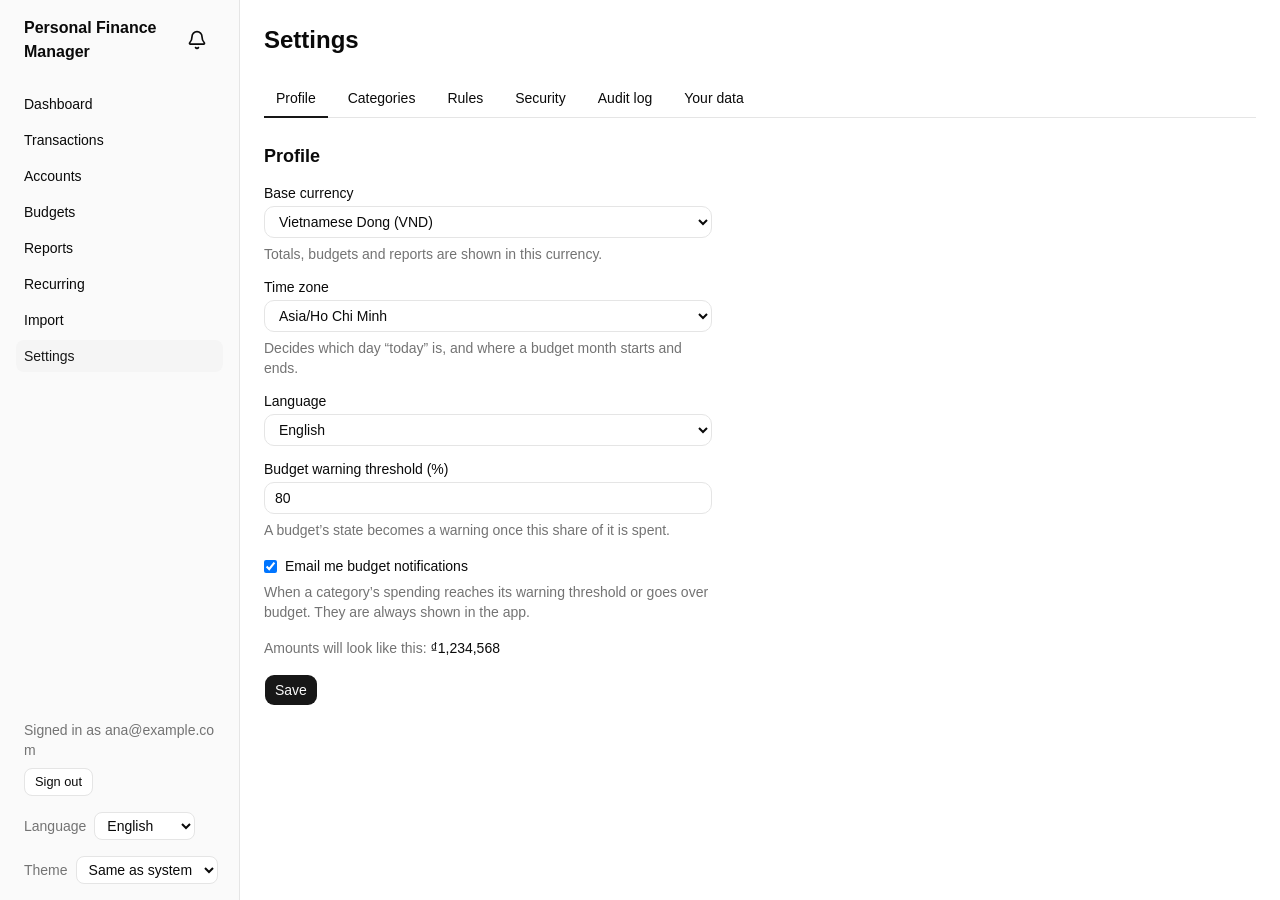
Test: profile settings › show the user’s base currency, time zone and language, and save changes to them
The width and height of the screenshot is (1280, 900).
Check: the dropdown labelled "Time zone" shows "Asia/Ho Chi Minh", box [264,300,712,332]
Select "Euro (EUR)" in the dropdown labelled "Base currency" at (488, 222), box [264,206,712,238]
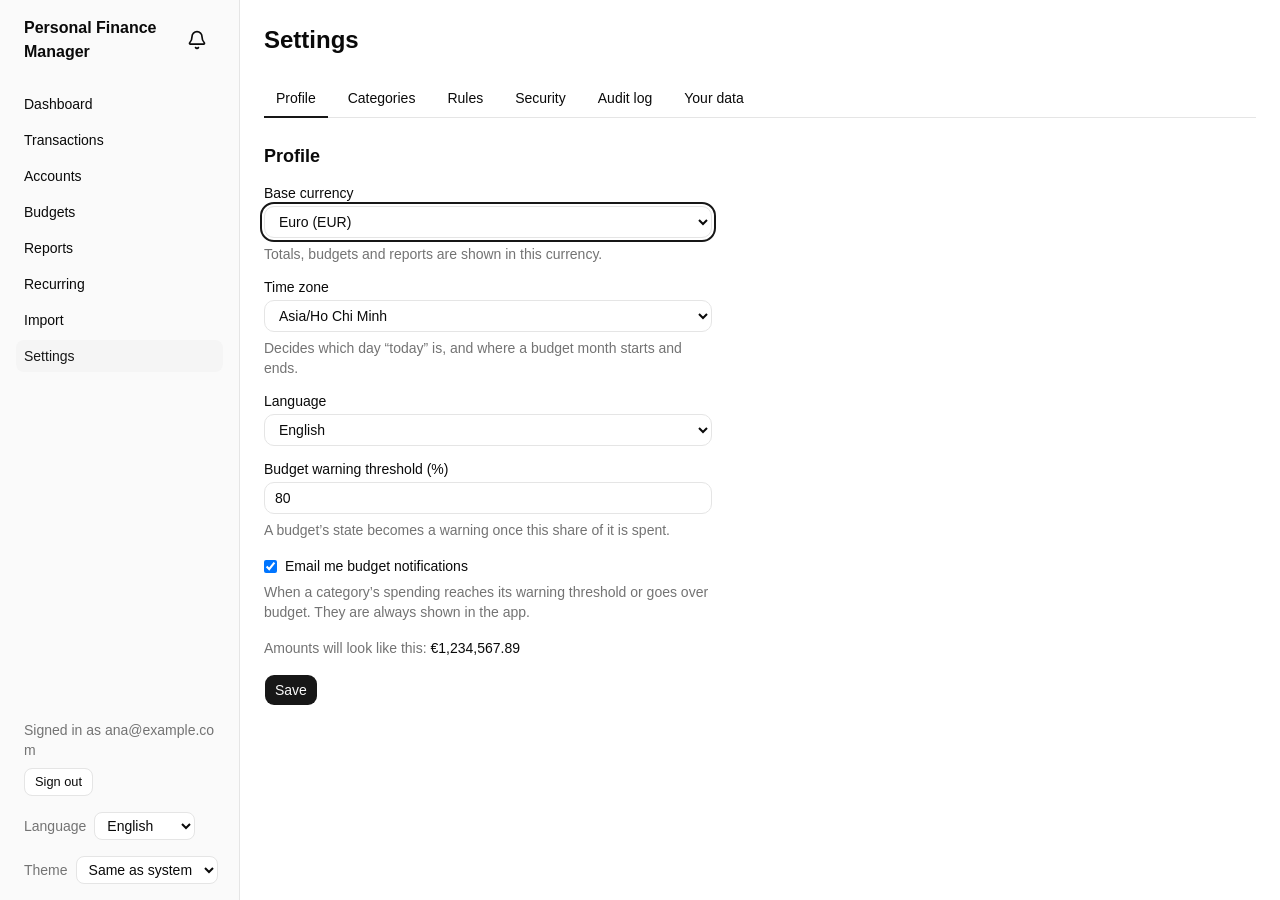
Select "Europe/Berlin" in the dropdown labelled "Time zone" at (488, 316), box [264,300,712,332]
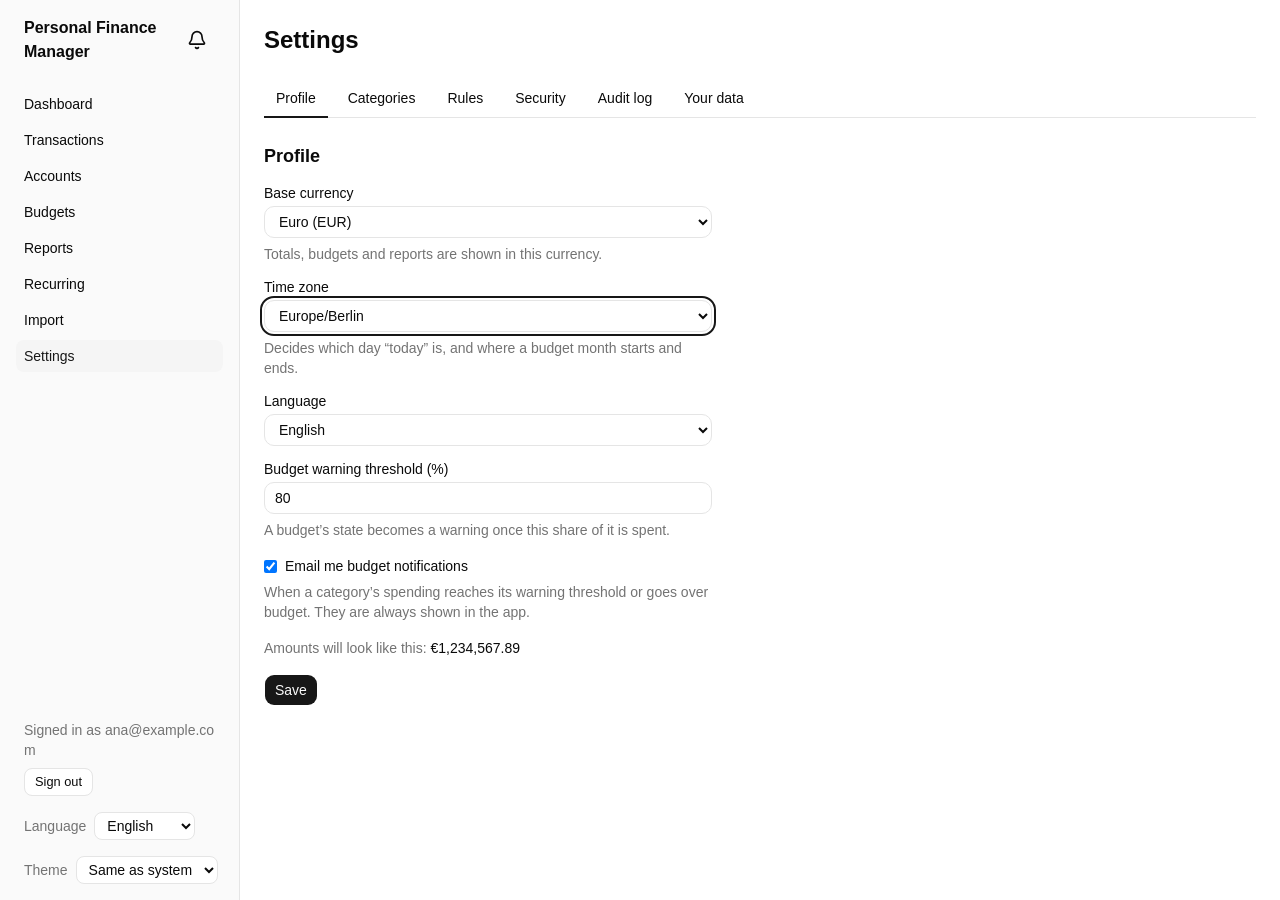
Click the button "Save" at (291, 690), box [264,674,318,706]
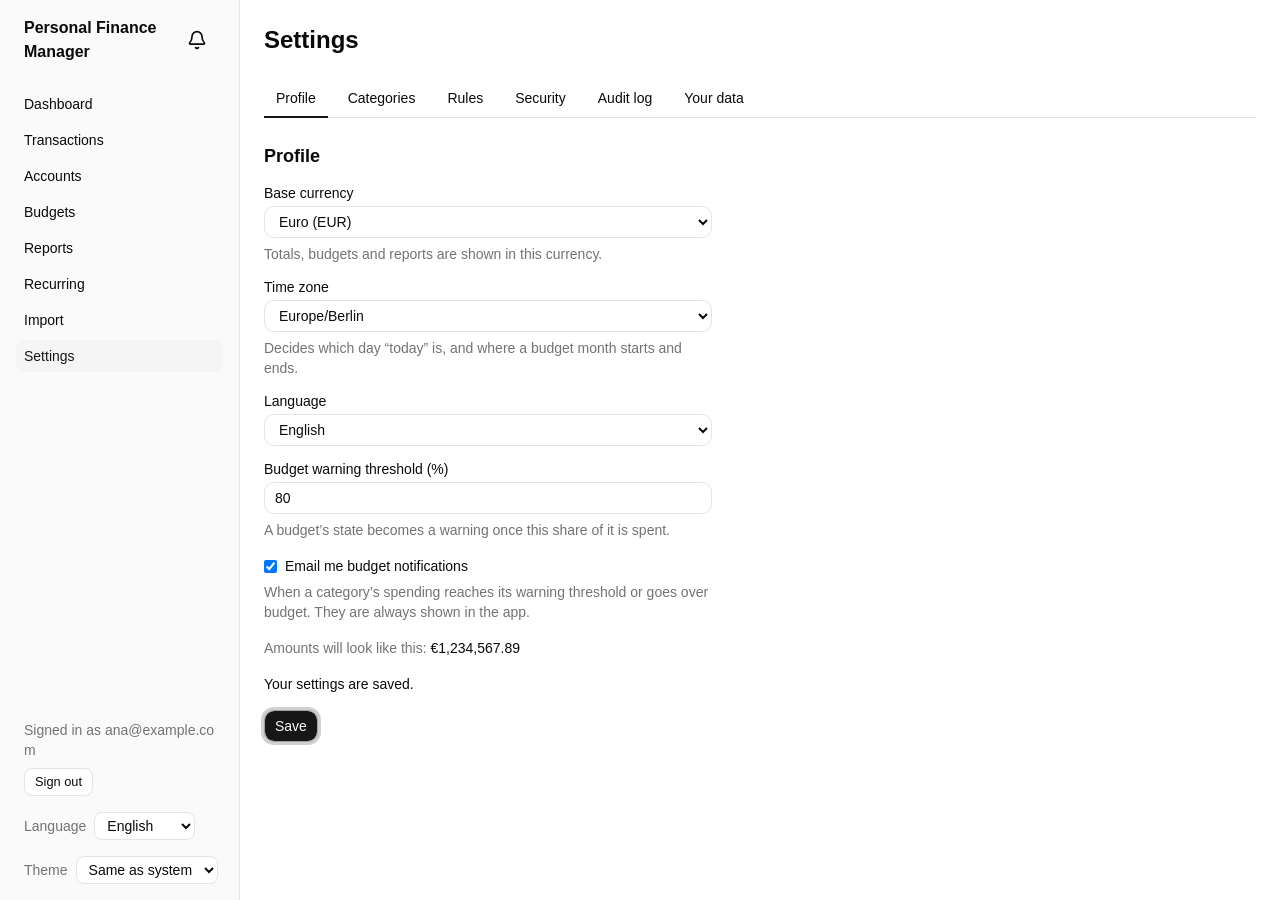
Check: the message reads "Your settings are saved.", box [264,676,414,692]
